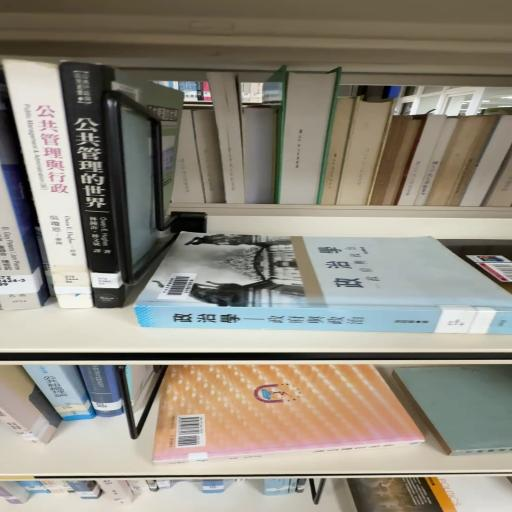flat: (134, 231, 512, 334), (152, 364, 424, 464)
